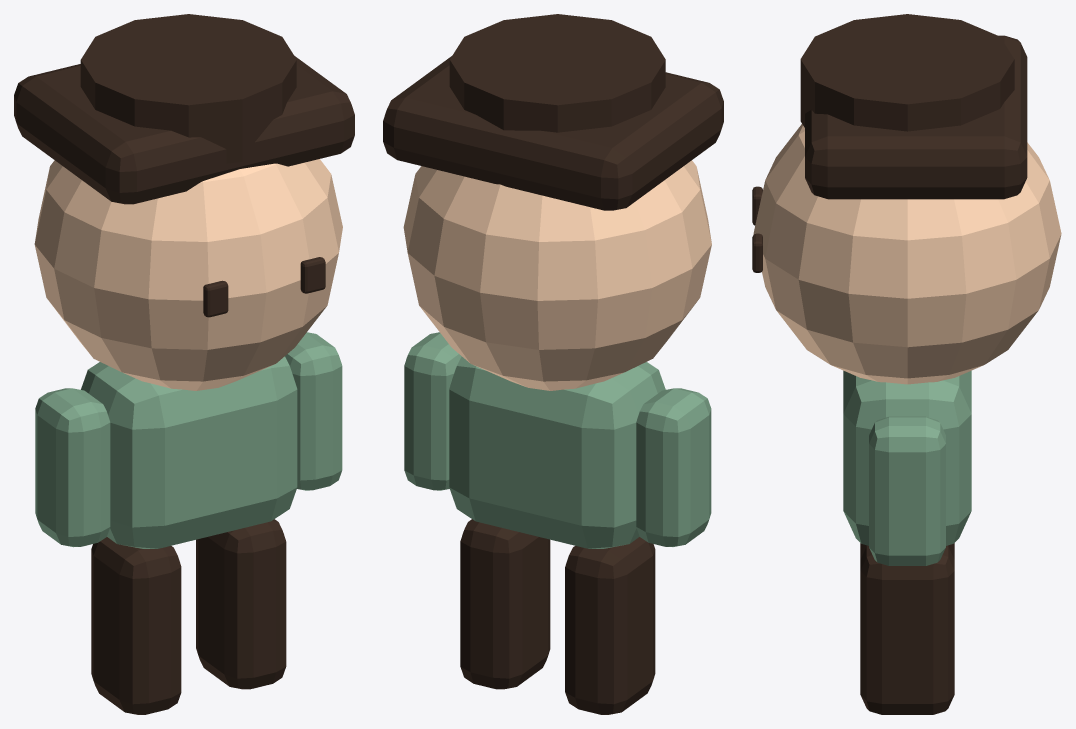
File: kar_bangUdin.fbx
The picture shows the model from 3 angles, left to right: view 1: azimuth 30°, elevation 25°; view 2: azimuth 150°, elevation 25°; view 3: azimuth 270°, elevation 25°; orthographic projection.
Parts seen in each view (by area): view 1: kar_bangUdin; view 2: kar_bangUdin; view 3: kar_bangUdin.
Boxes of the visible parts, x1,y1,x2,y2 form: kar_bangUdin: (14,14,354,714); kar_bangUdin: (383,14,723,714); kar_bangUdin: (752,14,1061,714).
Bounding box in the file's own units: 76 × 161 × 72.25.
1 material, 1 textured.
